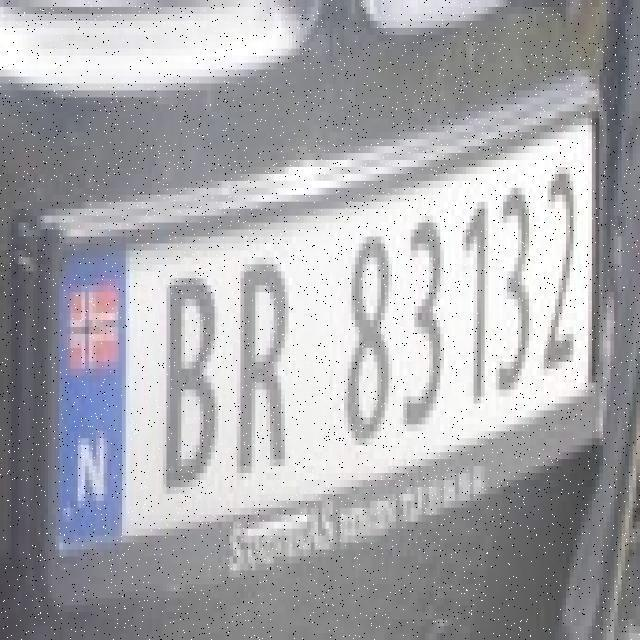LicensePlate: (16, 61, 614, 570)
